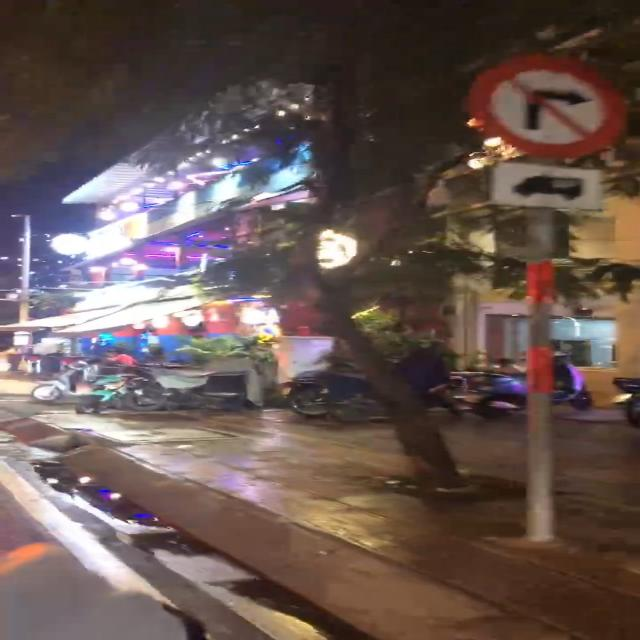Bien bao cam re phai: (446, 50, 626, 157)
